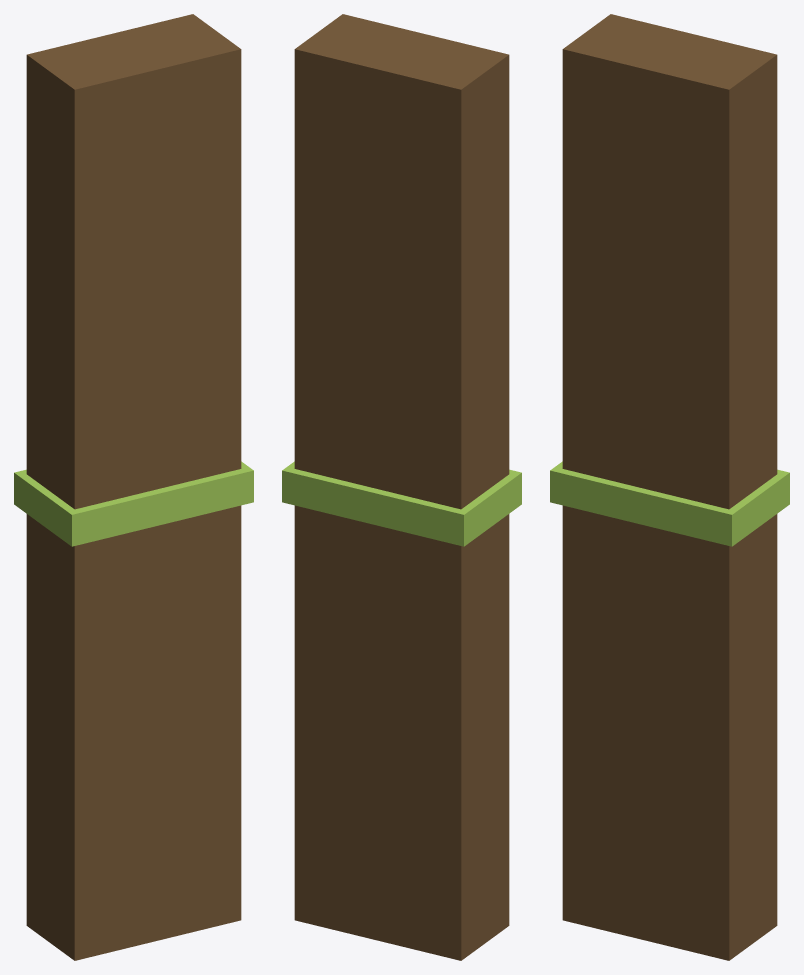
Rendered from Wood1.fbx.
3 views of the same model, side by side, from view 1: azimuth 30°, elevation 25°; view 2: azimuth 150°, elevation 25°; view 3: azimuth 330°, elevation 25° (orthographic).
Parts seen in each view (by area): view 1: Plank1; view 2: Plank1; view 3: Plank1.
Part boxes in pixels (<box>): Plank1: <box>14,14,253,960</box>; Plank1: <box>282,14,521,960</box>; Plank1: <box>550,14,789,960</box>.
Bounding box in the file's own units: 1.31 × 6 × 0.7214.
